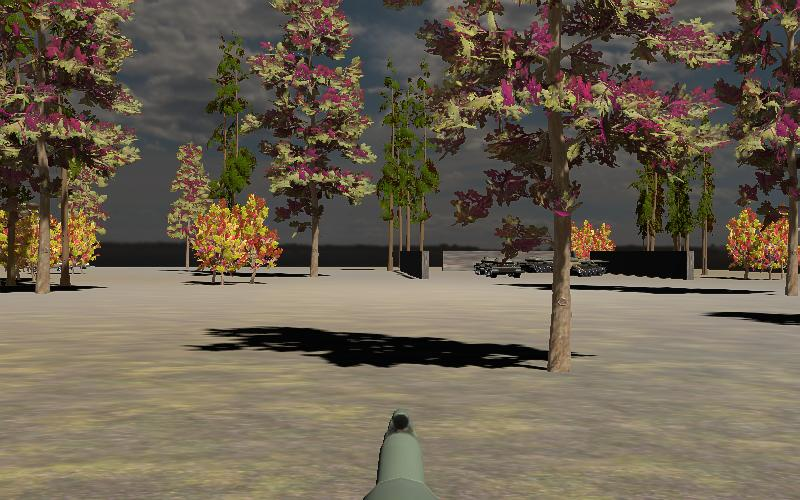Tank: (520, 252, 611, 277), (471, 255, 523, 279), (569, 257, 611, 277)
